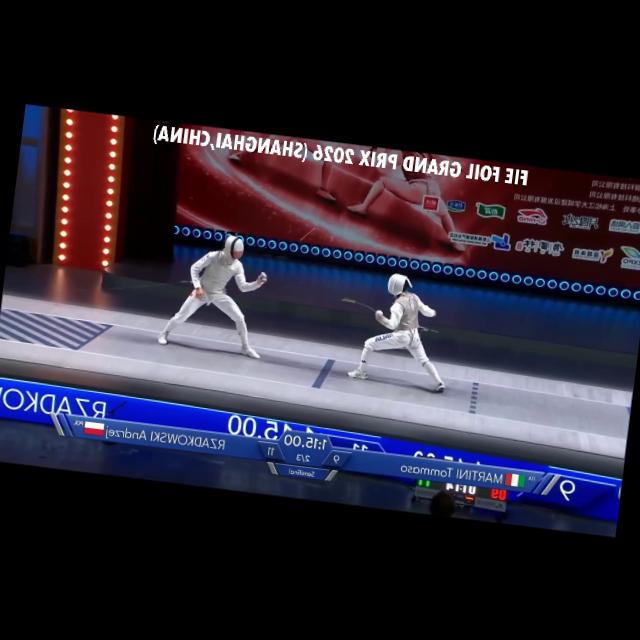blade: (256, 218, 318, 286), (336, 295, 384, 317)
